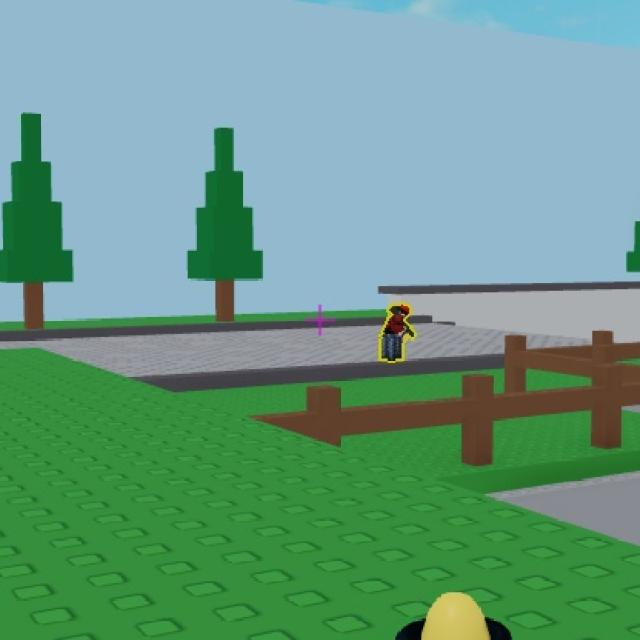player: (382, 295, 408, 369)
